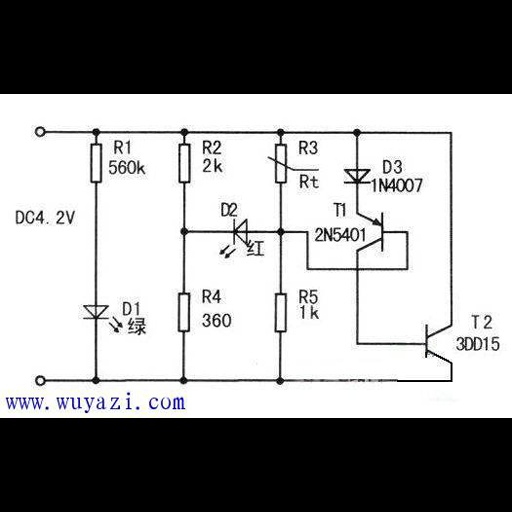firstresistance: (171, 289, 193, 335), (85, 139, 105, 189), (270, 290, 291, 337), (177, 141, 193, 187)
pnp: (353, 202, 390, 259)
seconddiode: (336, 165, 372, 187)
secondled: (76, 301, 123, 339)
secondresistance: (214, 217, 248, 261)
